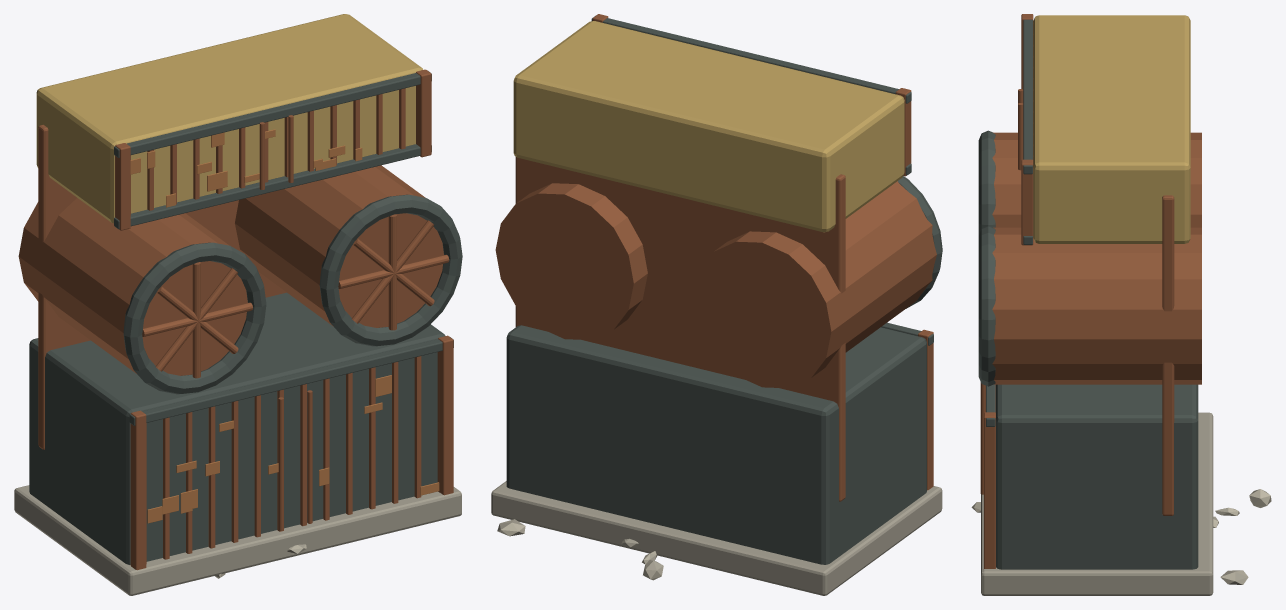
Rendered from Wall_Engine_Pile.glb.
3 views of the same model, side by side, from view 1: azimuth 30°, elevation 25°; view 2: azimuth 150°, elevation 25°; view 3: azimuth 270°, elevation 25° (orthographic).
Visible parts, largest first — view 1: Structure; view 2: Structure; view 3: Structure.
Part boxes in pixels (<box>): Structure: <box>14,14,462,595</box>; Structure: <box>491,14,942,595</box>; Structure: <box>971,14,1271,595</box>.
Size of the model in its own units: 5.16 by 6.39 by 4.01.
